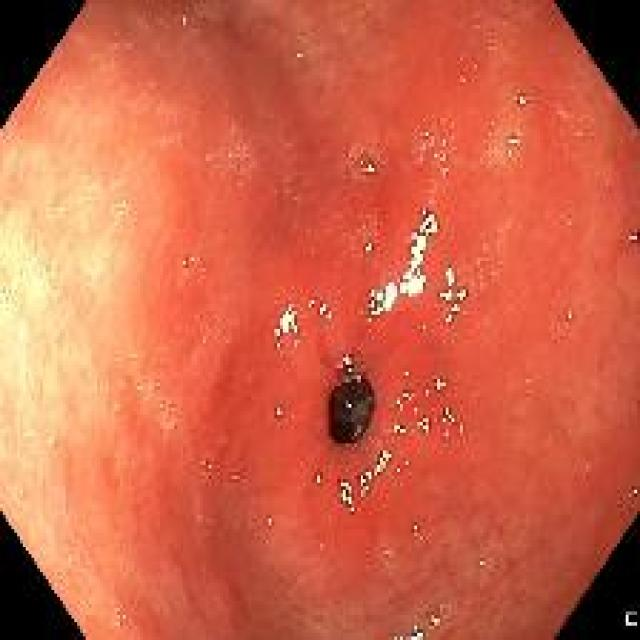bubbles: (194, 506, 215, 530), (178, 251, 198, 271), (348, 420, 364, 442), (623, 479, 638, 502), (112, 604, 128, 623), (226, 465, 240, 486), (294, 45, 307, 67), (356, 213, 370, 232), (201, 146, 214, 166), (175, 11, 190, 28), (136, 9, 149, 28), (46, 432, 58, 452), (113, 204, 128, 220), (199, 457, 213, 474), (11, 138, 24, 156), (627, 229, 637, 251), (84, 176, 97, 192), (129, 350, 144, 363), (41, 263, 54, 277), (457, 74, 470, 88), (16, 266, 28, 281), (23, 424, 33, 442), (112, 401, 123, 416), (157, 400, 167, 416), (133, 381, 144, 395), (344, 159, 353, 176), (167, 418, 177, 433), (46, 198, 56, 213), (141, 395, 152, 408), (119, 376, 128, 391), (1, 284, 10, 299), (150, 379, 161, 389)
contrast: (324, 377, 376, 446)
saturation: (0, 141, 110, 481)
specularity: (399, 204, 436, 296), (353, 448, 396, 495), (438, 264, 467, 330), (272, 298, 303, 359), (364, 279, 398, 325), (437, 403, 464, 437), (334, 475, 357, 514), (341, 348, 363, 386), (308, 296, 334, 320), (389, 624, 427, 639), (503, 129, 518, 158), (357, 155, 377, 176), (413, 414, 431, 437), (425, 605, 443, 628), (394, 389, 414, 409), (510, 90, 531, 109), (431, 373, 449, 392), (391, 419, 408, 439), (359, 237, 376, 256), (408, 521, 422, 541), (263, 514, 278, 529), (272, 406, 285, 422), (381, 544, 394, 560), (402, 366, 414, 381), (476, 556, 487, 571), (313, 472, 326, 484), (365, 163, 377, 175), (564, 307, 575, 320), (343, 397, 353, 411), (356, 153, 366, 167), (421, 385, 430, 399), (631, 484, 639, 499), (180, 255, 187, 271), (188, 254, 196, 266), (120, 610, 127, 623), (178, 14, 187, 24), (631, 230, 638, 242), (135, 382, 142, 393), (295, 49, 301, 60), (49, 204, 56, 212)
